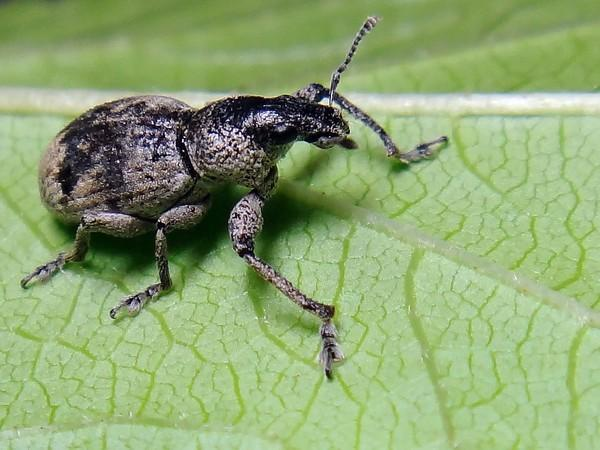Curculionidae: (18, 15, 450, 381)
